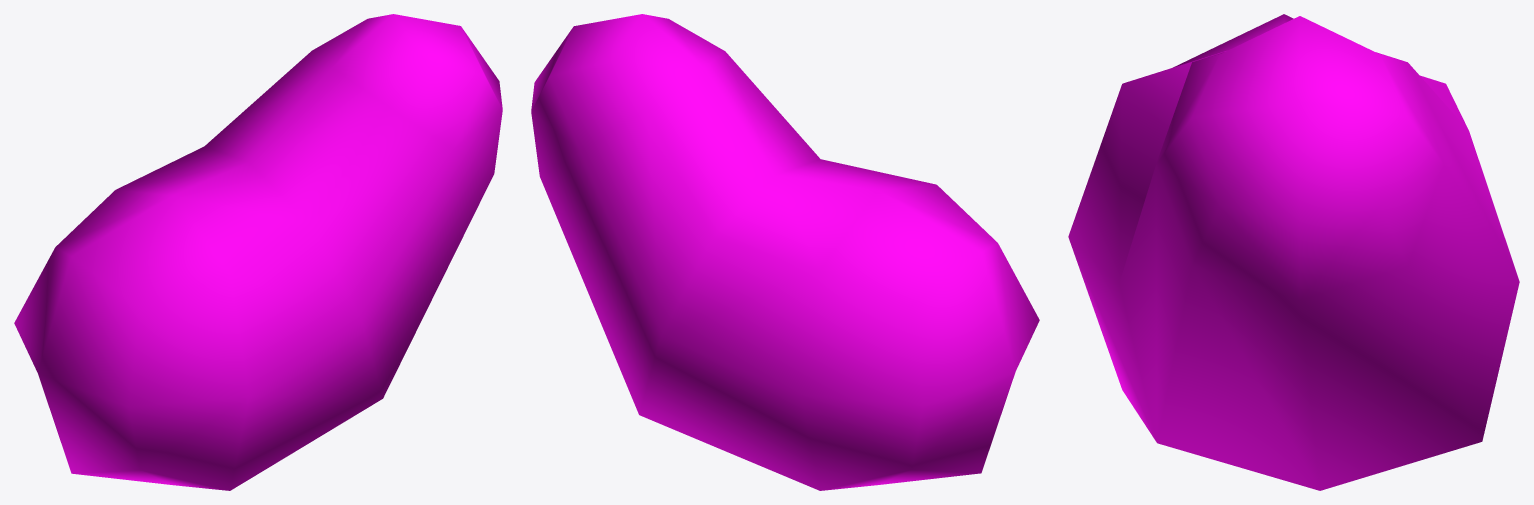
The model's file is eggplant_meshCollider.fbx.
The picture shows the model from 3 angles, left to right: view 1: azimuth 30°, elevation 25°; view 2: azimuth 150°, elevation 25°; view 3: azimuth 270°, elevation 25°; orthographic projection. The views are drawn at different scales.
Parts seen in each view (by area): view 1: foods_eggplant_meshCollider; view 2: foods_eggplant_meshCollider; view 3: foods_eggplant_meshCollider.
Boxes of the visible parts, left/top/right/bottom form: foods_eggplant_meshCollider: left=14, top=14, right=502, bottom=490; foods_eggplant_meshCollider: left=531, top=14, right=1039, bottom=490; foods_eggplant_meshCollider: left=1068, top=14, right=1519, bottom=490.
Size of the model in its own units: 14.45 by 12.17 by 8.57.
